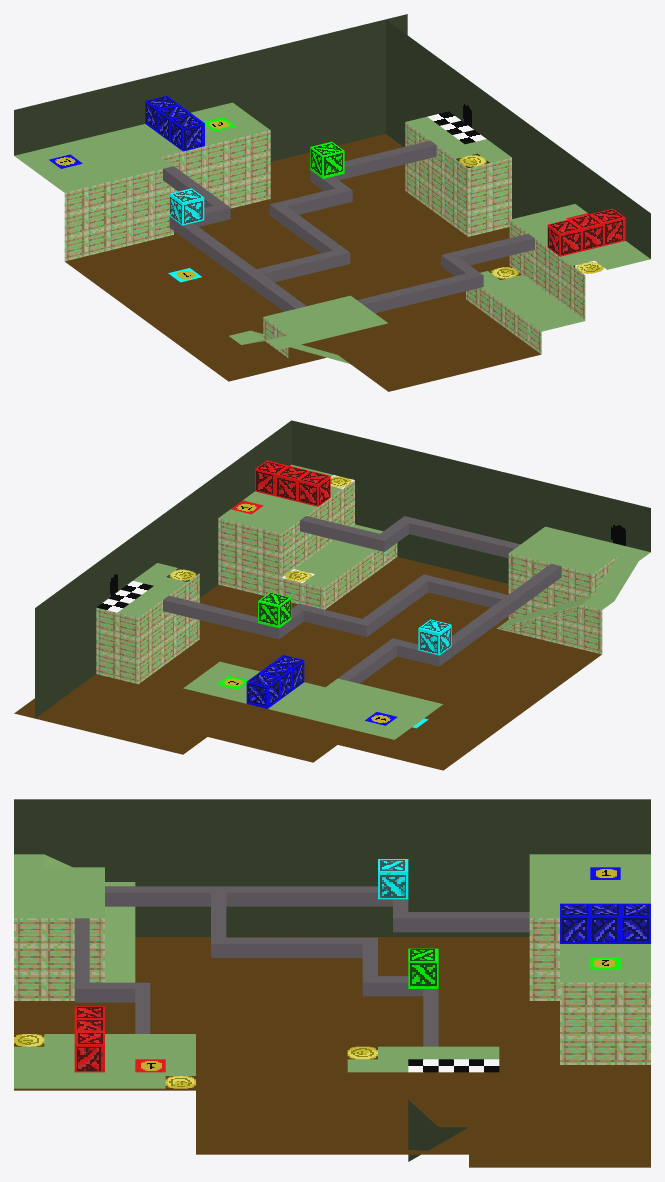
Rendered from LevelThreeLayout.gltf.
The picture shows the model from 3 angles, top to bottom: view 1: azimuth 30°, elevation 25°; view 2: azimuth 150°, elevation 25°; view 3: azimuth 270°, elevation 25°; orthographic projection. The views are drawn at different scales.
Size of the model in its own units: 18.5 by 5.5 by 21.
2 materials, 2 textured.
